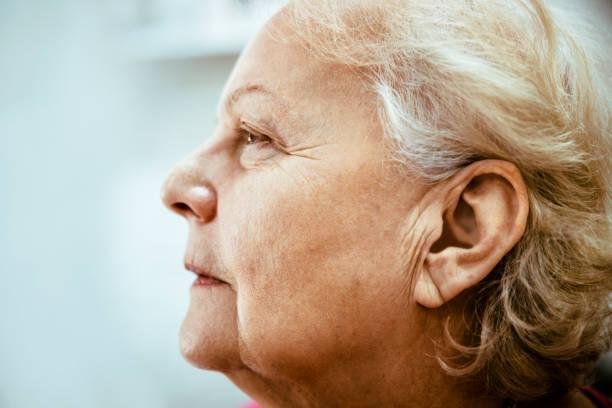Dry-Skin: (226, 174, 408, 313)
